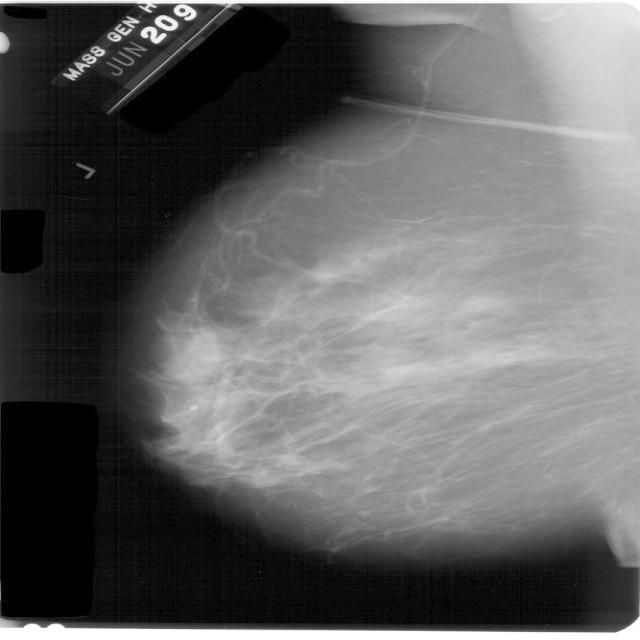tumour: (461, 290, 506, 311)
